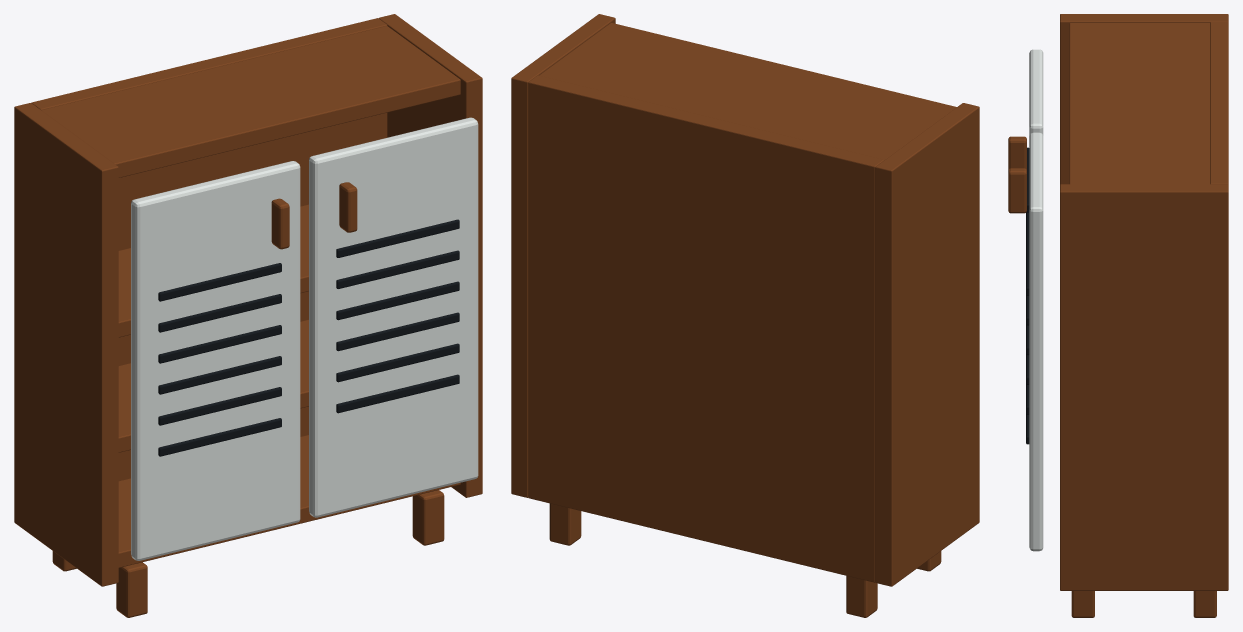
3 renders of one model, left to right at view 1: azimuth 30°, elevation 25°; view 2: azimuth 150°, elevation 25°; view 3: azimuth 270°, elevation 25°, orthographic. The views are drawn at different scales.
Parts seen in each view (by area): view 1: DOOR_Frame.001, DOOR_Frame, BODY_Side.001, BODY_Shelf, BODY_Back, BODY_Side, BODY_Shelf.001, BODY_Shelf.002, BODY_Shelf.003, FOOT.002, FOOT, VENT_Inset.002 (+13 smaller); view 2: BODY_Back, BODY_Side.001, BODY_Shelf, BODY_Side, FOOT.003, FOOT.001; view 3: BODY_Side, BODY_Shelf, DOOR_Frame.001, BODY_Side.001, BODY_Back, DOOR_Frame, HANDLE.001, FOOT.002, FOOT.003, HANDLE.
Boxes of the visible parts, left/top/right/bottom form: DOOR_Frame.001: left=309, top=117, right=478, bottom=517; DOOR_Frame: left=131, top=161, right=300, bottom=560; BODY_Side.001: left=14, top=103, right=118, bottom=586; BODY_Shelf: left=41, top=26, right=460, bottom=177; BODY_Back: left=31, top=18, right=387, bottom=481; BODY_Side: left=378, top=14, right=482, bottom=497; BODY_Shelf.001: left=118, top=435, right=460, bottom=567; BODY_Shelf.002: left=118, top=320, right=308, bottom=452; BODY_Shelf.003: left=118, top=204, right=308, bottom=337; FOOT.002: left=412, top=490, right=444, bottom=545; FOOT: left=116, top=562, right=147, bottom=617; VENT_Inset.002: left=158, top=356, right=281, bottom=394; BODY_Back: left=528, top=75, right=884, bottom=582; BODY_Side.001: left=875, top=103, right=979, bottom=586; BODY_Shelf: left=539, top=23, right=956, bottom=159; BODY_Side: left=511, top=14, right=615, bottom=497; FOOT.003: left=549, top=503, right=581, bottom=545; FOOT.001: left=846, top=576, right=877, bottom=617; BODY_Side: left=1060, top=184, right=1228, bottom=590; BODY_Shelf: left=1069, top=23, right=1209, bottom=184; DOOR_Frame.001: left=1029, top=132, right=1043, bottom=551; BODY_Side.001: left=1060, top=14, right=1228, bottom=184; BODY_Back: left=1210, top=22, right=1228, bottom=184; DOOR_Frame: left=1029, top=49, right=1043, bottom=135; HANDLE.001: left=1008, top=168, right=1026, bottom=213; FOOT.002: left=1071, top=591, right=1094, bottom=617; FOOT.003: left=1193, top=591, right=1216, bottom=617; HANDLE: left=1008, top=136, right=1026, bottom=170.
Bounding box in the file's own units: 0.9 × 1.04 × 0.47.
